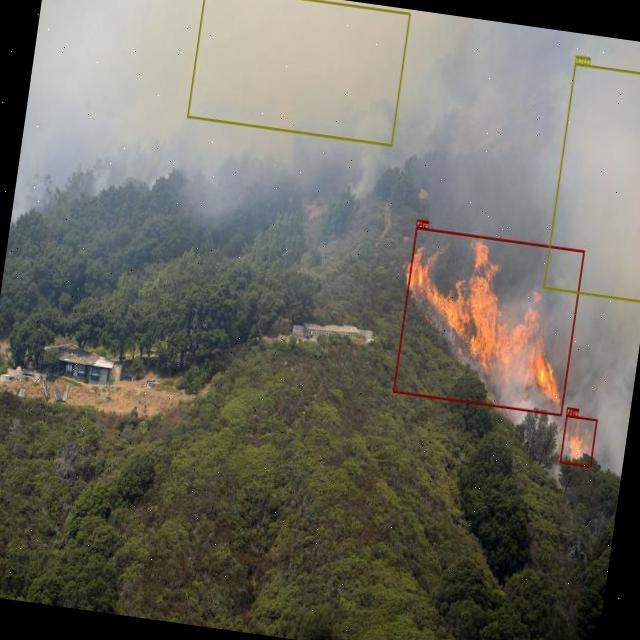fire: (392, 226, 584, 416), (560, 415, 596, 467)
smoke: (187, 0, 411, 146), (543, 63, 640, 303)
